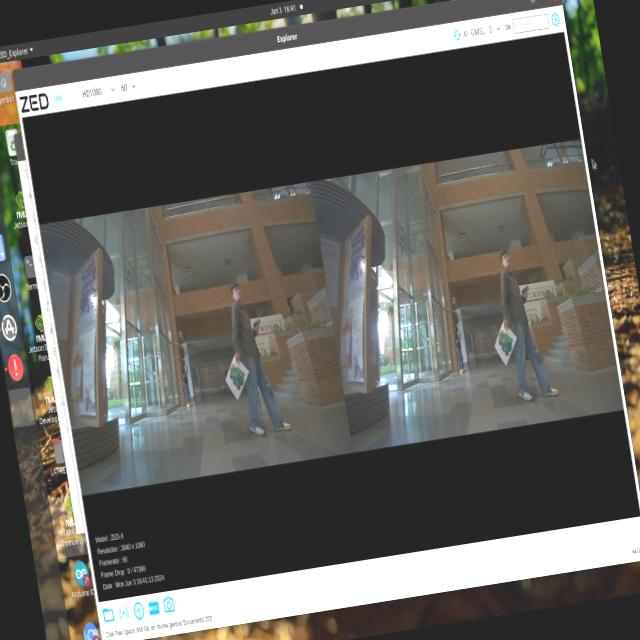green: (222, 361, 252, 394), (496, 322, 516, 364)
